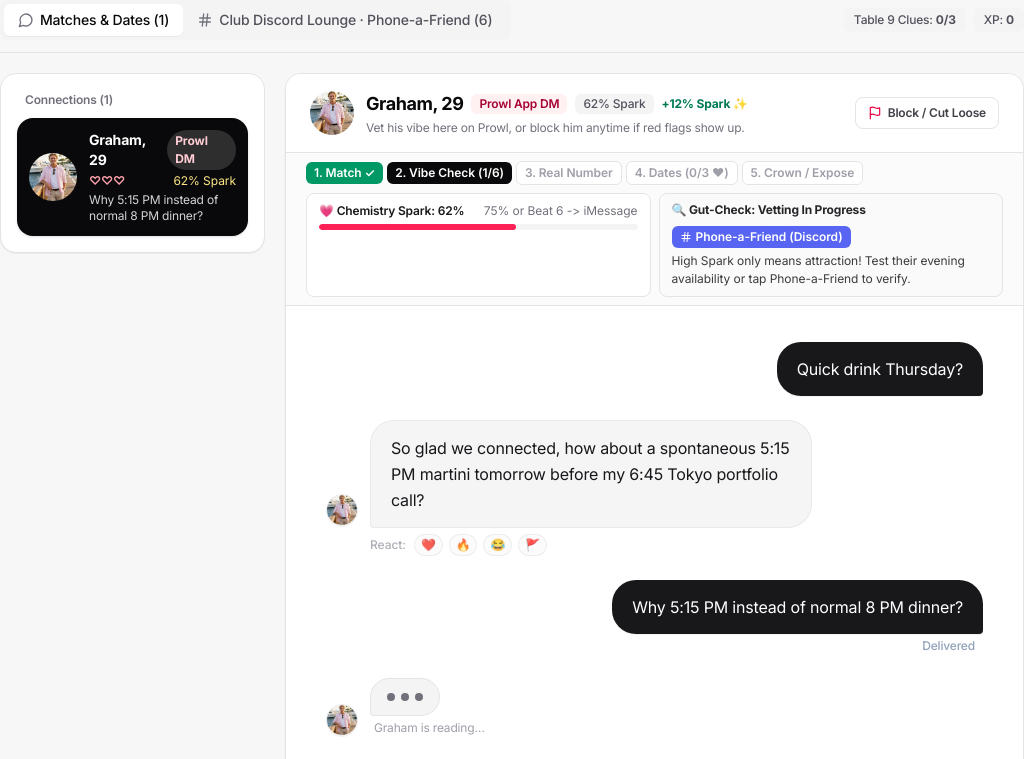
v39 Hit Dating-Sim Engine: Clear 5-Rank Ladder, 5-Stage Relationship Track, Dual Spark/Flag Radar, Phone-a-Friend Discord Lifeline & Reddit Subculture Polish › renders the 5-Step Relationship Stepper, Dual Meters, Per-Turn Reaction Banner, and live Phone-a-Friend Discord handoff + Trap Block
Earlier steps of the test are not shown.
Later steps or results of the test are not shown.
Click the button with test id "phone-a-friend-discord-btn".
click(761, 237)  # box 672,226 -> 851,248
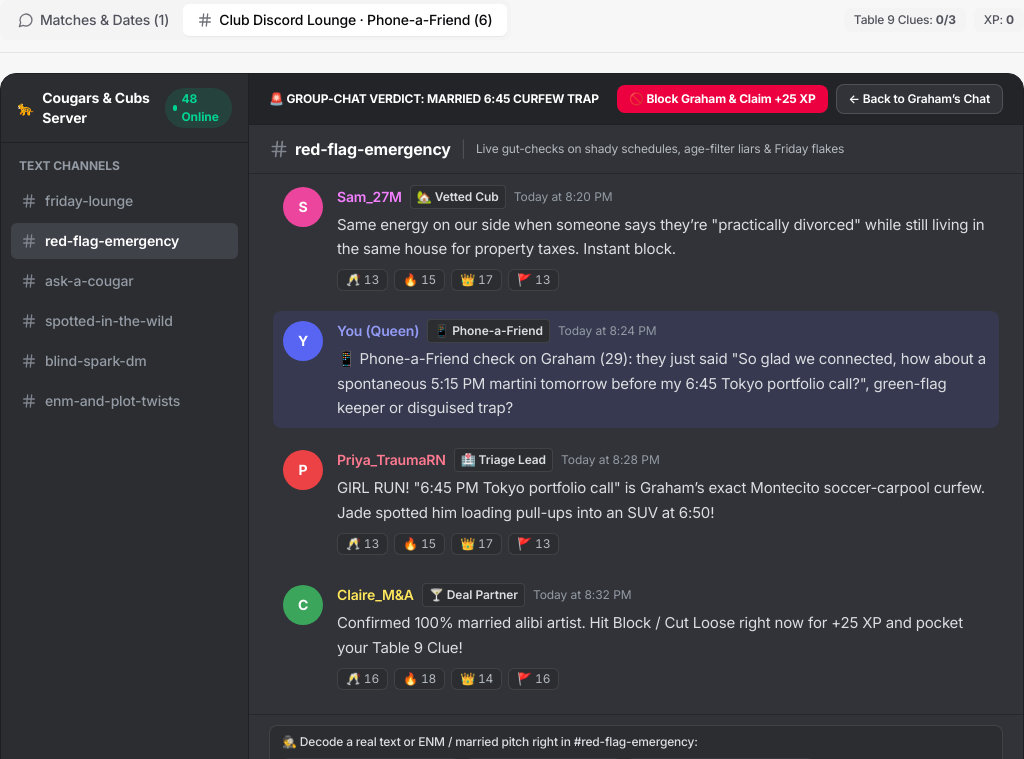
Expected: the element with test id "discord-return-to-match-bar" shows "MARRIED 6:45 CURFEW TRAP", 269,91 -> 599,106
